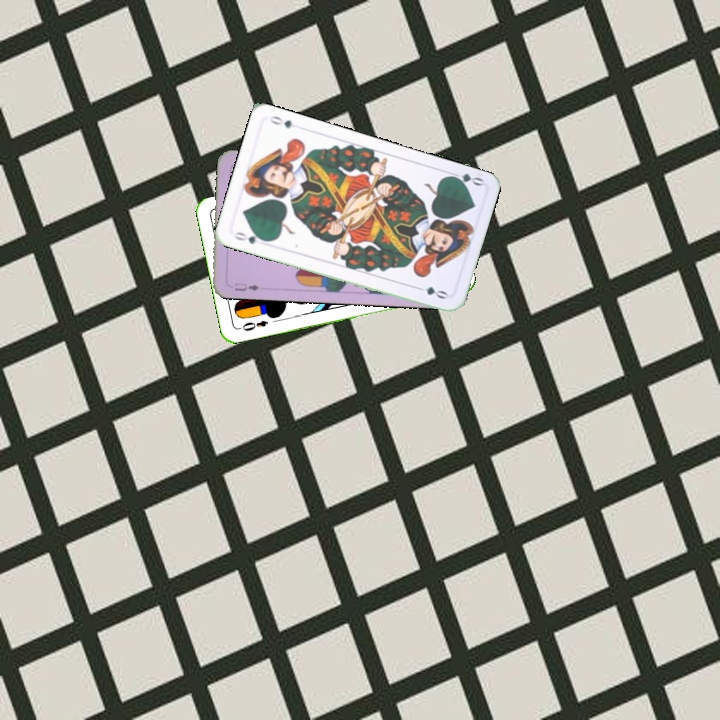EO: (235, 316, 271, 334)
EU: (231, 279, 262, 294)
GO: (444, 167, 486, 189), (230, 228, 270, 247)
